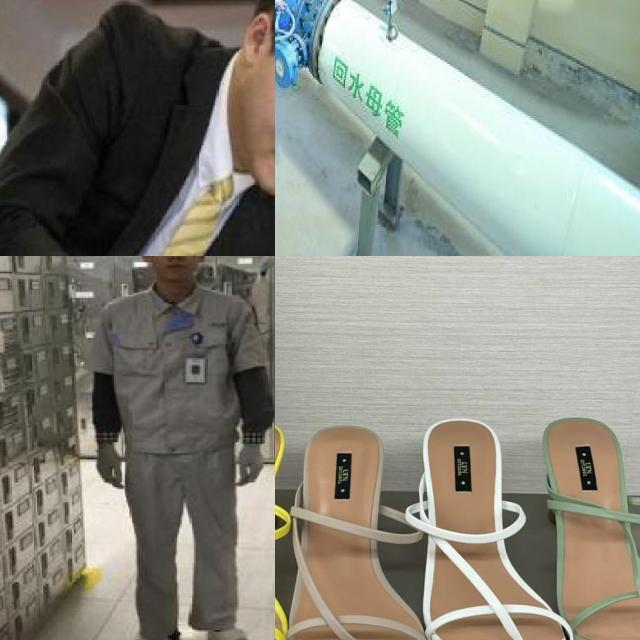No_Ear-Protection: (240, 7, 274, 71)
Sandals: (408, 392, 593, 640), (287, 405, 440, 640), (520, 384, 640, 640)
face_nomask: (236, 28, 275, 191), (140, 256, 201, 279)
hand_glove: (92, 442, 126, 488), (234, 444, 262, 486)
hand_noglove: (275, 0, 288, 14)
person: (72, 256, 275, 640), (0, 0, 275, 256)
shoes: (197, 615, 266, 640), (117, 616, 183, 640)
